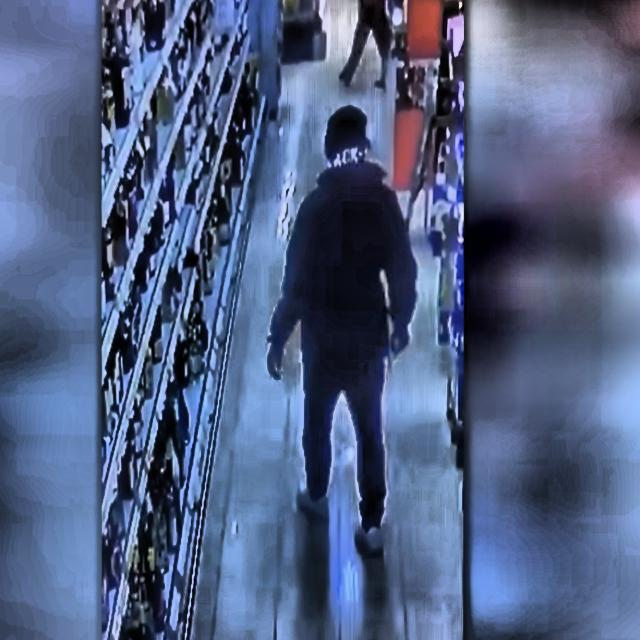Human: (264, 73, 434, 578)
